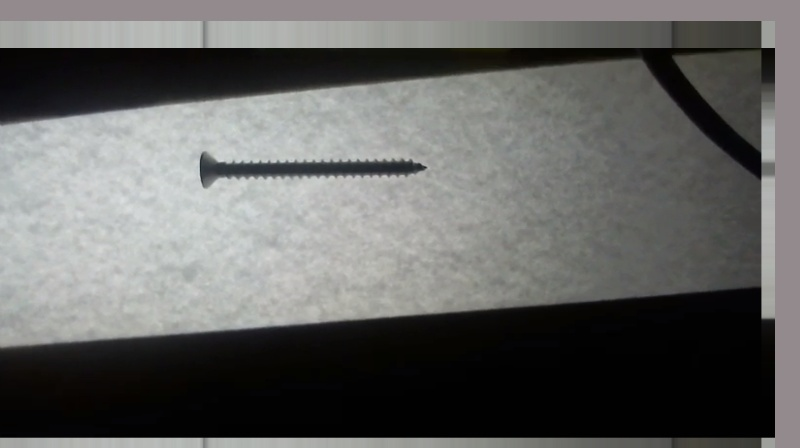S002: (194, 146, 429, 191)
